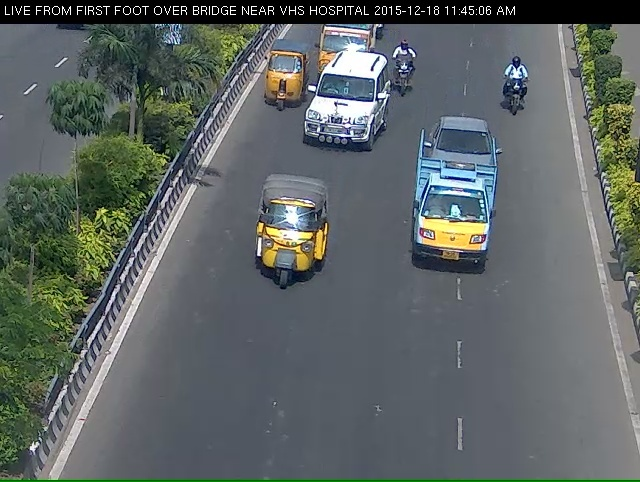Auto: (406, 124, 502, 287), (242, 181, 328, 312), (312, 19, 382, 74), (313, 21, 384, 71), (257, 45, 297, 115)
Car: (291, 64, 388, 169)
Person: (503, 69, 538, 129), (388, 47, 420, 105)
